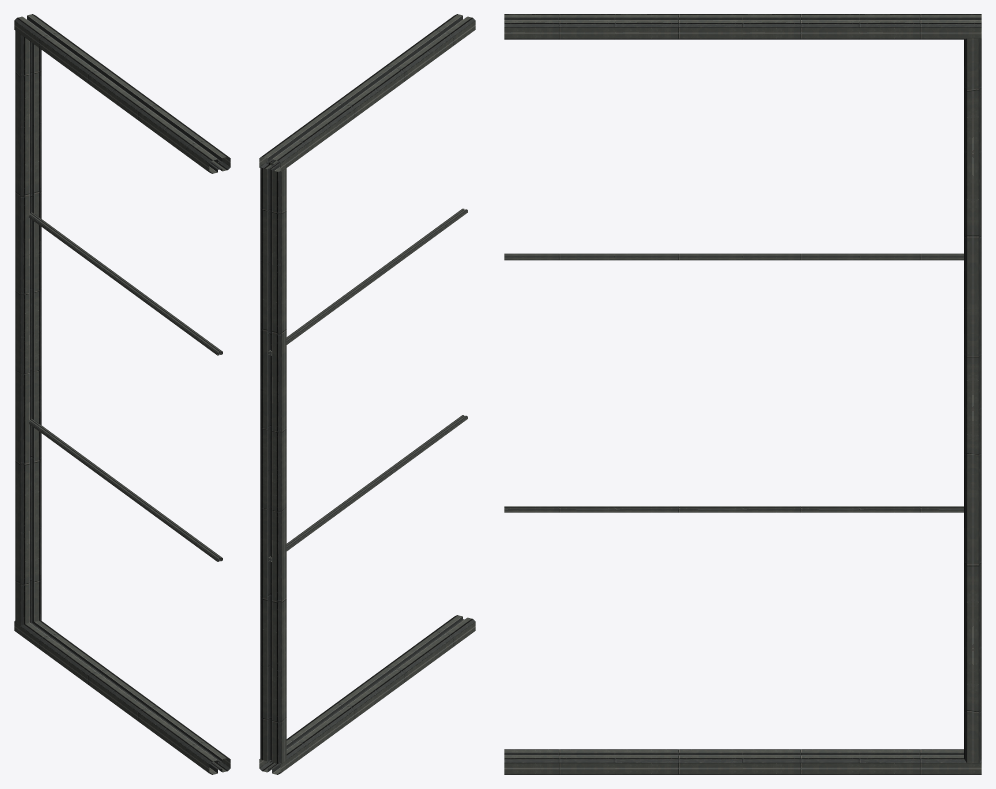
Rendered from Dock_WindowFrameStrt_Cap.FBX.
The picture shows the model from 3 angles, left to right: view 1: azimuth 30°, elevation 25°; view 2: azimuth 150°, elevation 25°; view 3: azimuth 270°, elevation 25°; orthographic projection. The views are drawn at different scales.
Visible parts, largest first — view 1: Dock_WindowFrameStrt_Cap; view 2: Dock_WindowFrameStrt_Cap; view 3: Dock_WindowFrameStrt_Cap.
Part boxes in pixels (x1,y1,x2,y2): Dock_WindowFrameStrt_Cap: (14,14,230,774); Dock_WindowFrameStrt_Cap: (259,14,475,774); Dock_WindowFrameStrt_Cap: (504,14,981,774).
Size of the model in its own units: 0.3798 by 10.42 by 6.
